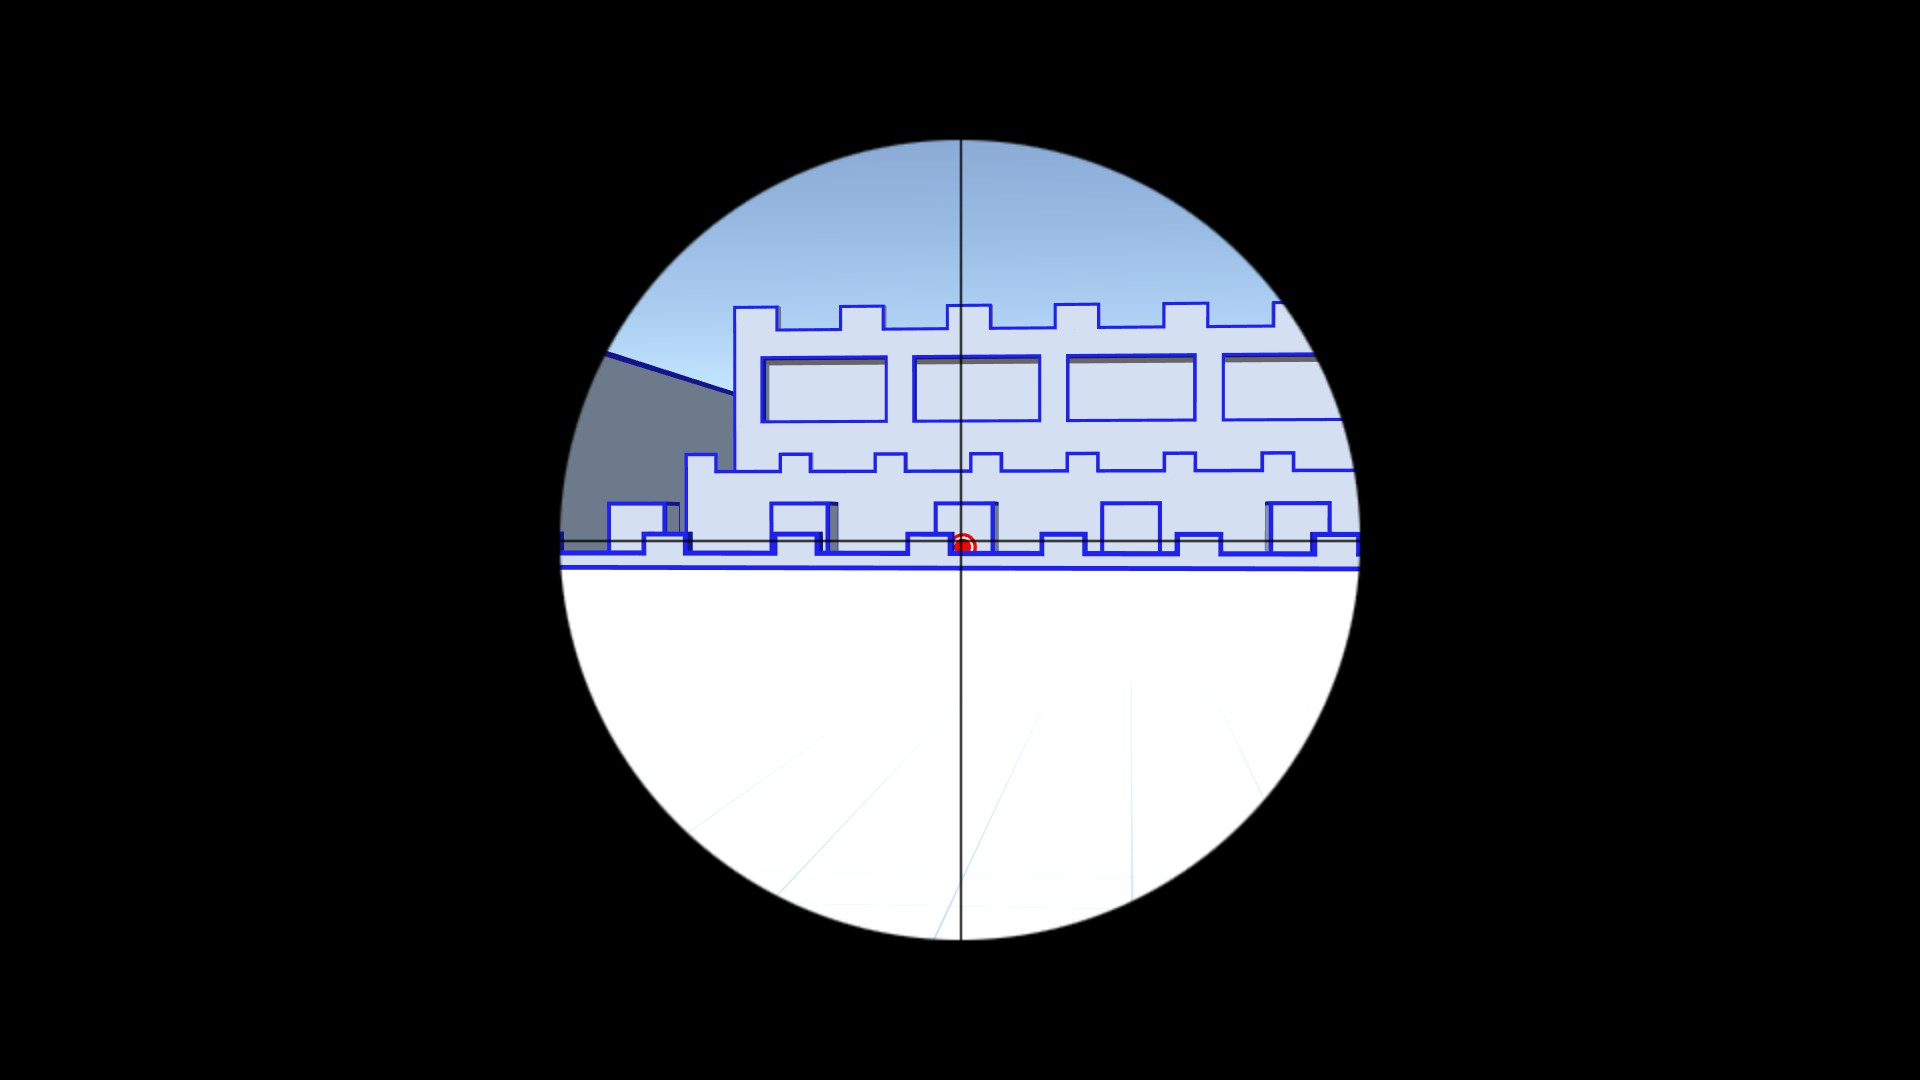target: (951, 531, 977, 556)
